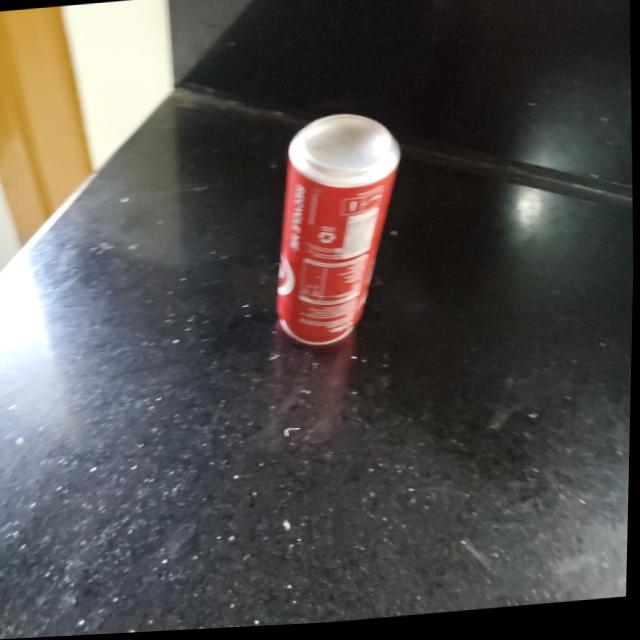coke: (278, 116, 414, 356)
